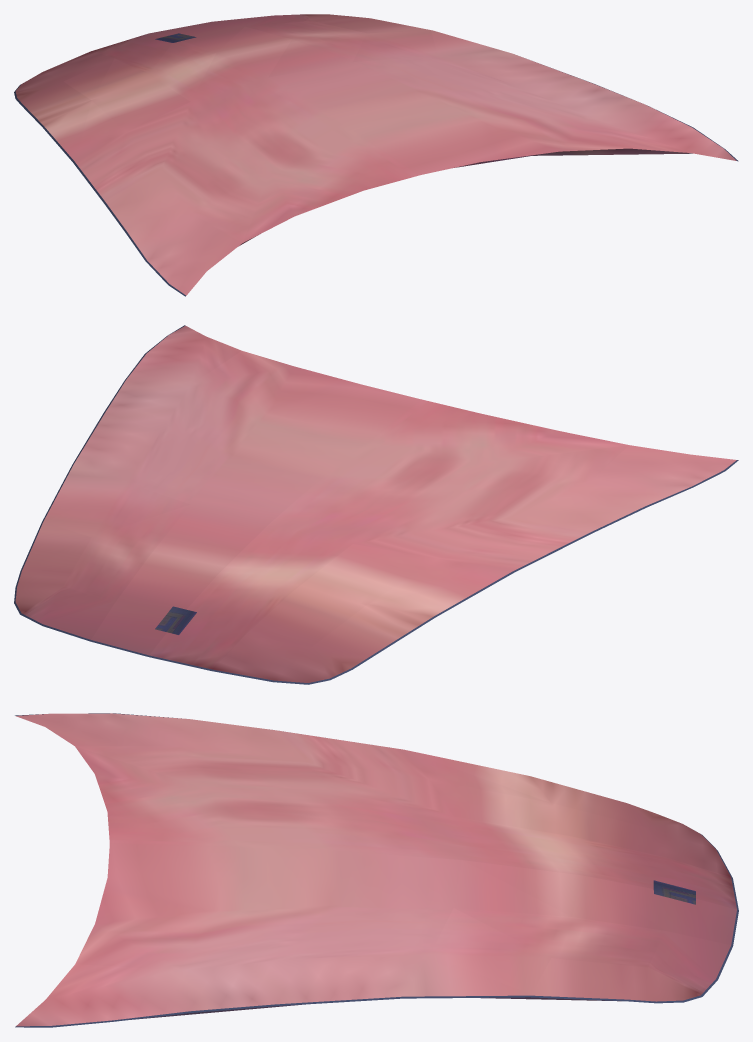
File: cofre.obj
3 views of the same model, one above another, from view 1: azimuth 30°, elevation 25°; view 2: azimuth 150°, elevation 25°; view 3: azimuth 270°, elevation 25° (orthographic). The views are drawn at different scales.
Parts seen in each view (by area): view 1: part_014; view 2: part_014; view 3: part_014.
Boxes of the visible parts, x1,y1,x2,y2 form: part_014: [14, 14, 738, 296]; part_014: [14, 325, 738, 684]; part_014: [15, 713, 738, 1027].
Size of the model in its own units: 5.8 by 0.6668 by 5.66.
Materials: 1 (1 with a texture image).
